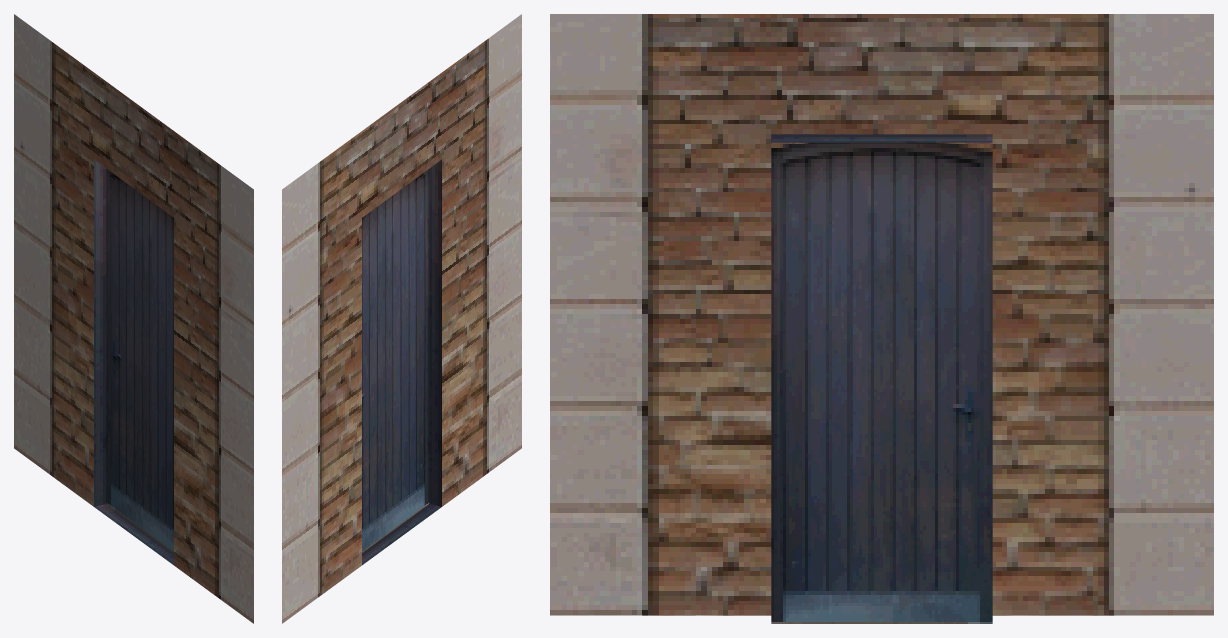
The model's file is fancy_brick_wall_door_indent.glb.
The picture shows the model from 3 angles, left to right: view 1: azimuth 30°, elevation 25°; view 2: azimuth 150°, elevation 25°; view 3: azimuth 270°, elevation 25°; orthographic projection. The views are drawn at different scales.
Visible parts, largest first — view 1: fancy_brick_wall_door_indent; view 2: fancy_brick_wall_door_indent; view 3: fancy_brick_wall_door_indent.
Boxes of the visible parts, x1,y1,x2,y2 form: fancy_brick_wall_door_indent: [14, 14, 253, 623]; fancy_brick_wall_door_indent: [282, 14, 521, 623]; fancy_brick_wall_door_indent: [550, 14, 1213, 623].
Bounding box in the file's own units: 0.0907 × 3 × 3.
Materials: 1 (1 with a texture image).
